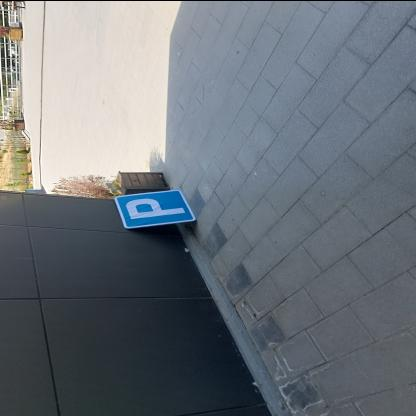Parking-Sign: (114, 188, 199, 230)
